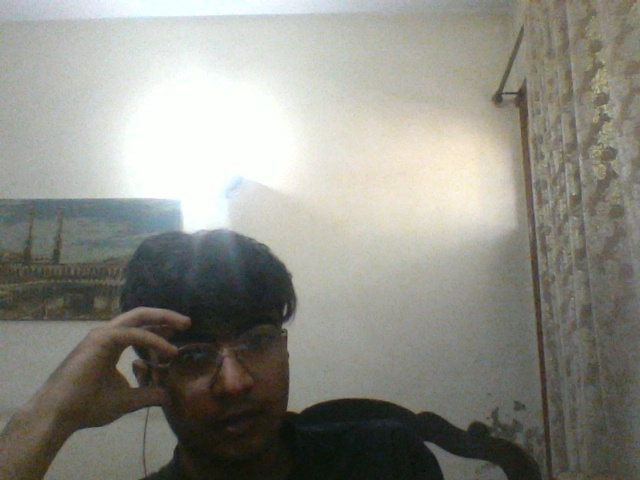surprised: (158, 328, 283, 458)
